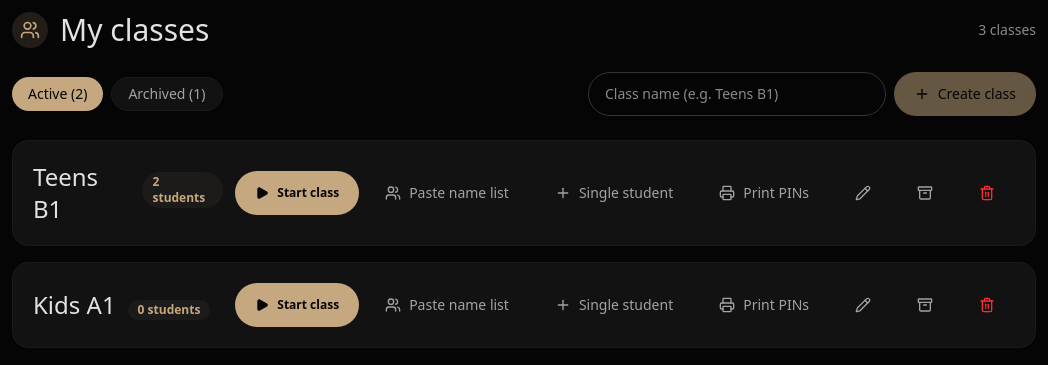
Test case: ClassesSection (RF01, RF02, RF06, CA01, CA05) › switches to Archived tab and displays archived classes (CA05)
Click the button "Archived (1)" at point(167, 94), box [111,77,222,111]
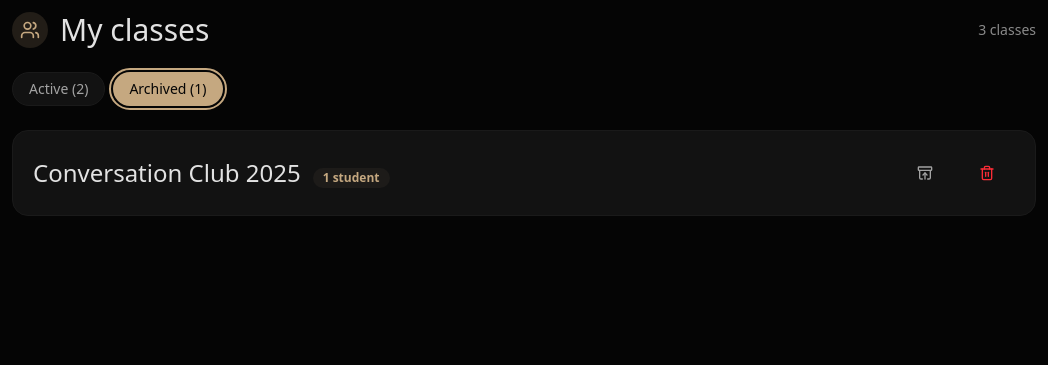
Expected: the button "Conversation Club 2025" is shown, [33,157,301,189]
Expected: the button "Teens B1" is gone
